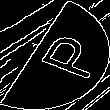P_NW: (15, 27, 95, 83)
